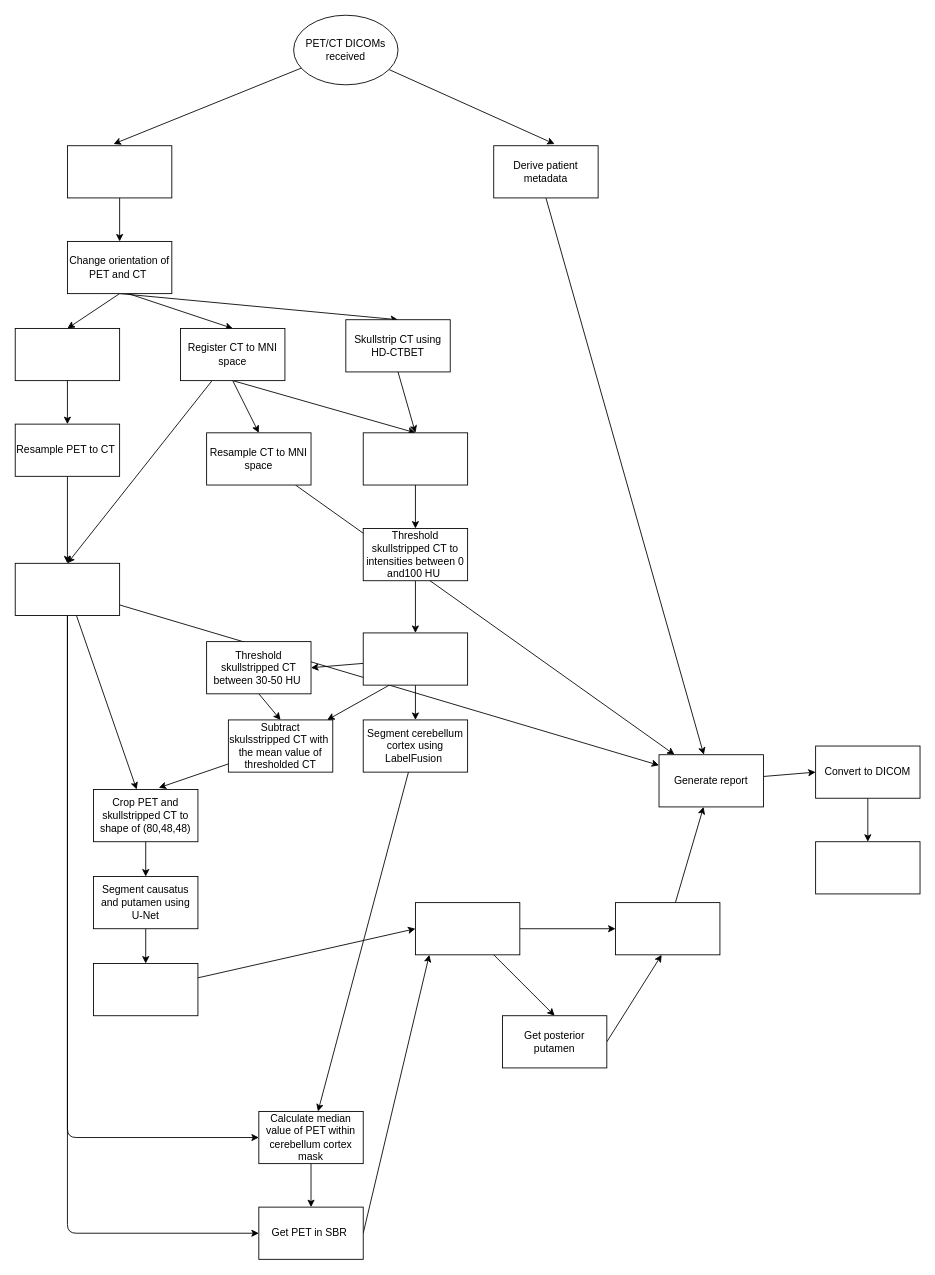
The diagram is 935 pixels wide and 1275 high, and some of its shapes have lost their labels. The shapes that lost their labels are listed below. From the top down, each one's centre as x and y in pixels, then its label:
the point at 119,171: Convert DICOMs to nifti
the point at 67,354: Register PET to CT
the point at 415,458: Resample skullstripped CT to MNI space
the point at 67,589: Resample PET to MNI space
the point at 415,658: Smooth skullstripped CT with Gaussian kernel of 1 mm width
the point at 867,867: Send to server?
the point at 467,928: Get brain hemispheres
the point at 667,928: Get regional activities
the point at 145,989: Reconstruct segmantation to PET shape
